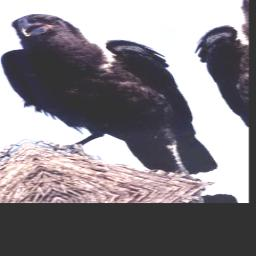Crow: (0, 0, 233, 196)
